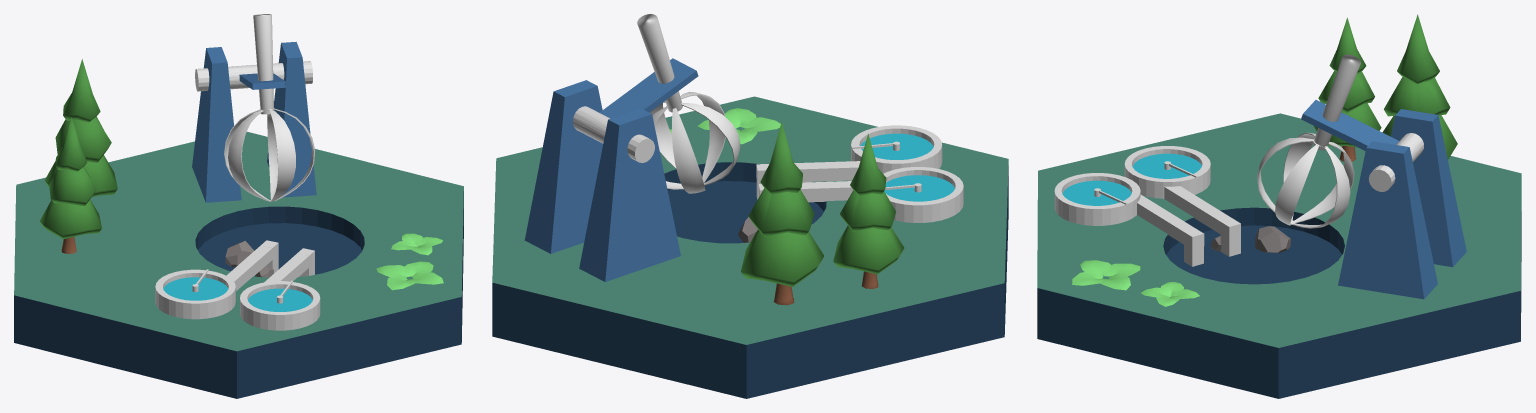
File: Macro - Mineral lvl 1 WM3 rev.fbx
3 renders of one model, left to right at view 1: azimuth 30°, elevation 25°; view 2: azimuth 150°, elevation 25°; view 3: azimuth 270°, elevation 25°, orthographic. The views are drawn at different scales.
Parts seen in each view (by area): view 1: Cylinder.011, Cube.002, Tree_Spruce_tiny_01.001, Circle.001, Tree_Spruce_tiny_01.002, Cube.001, Cylinder.124, Cylinder.131, Cylinder.003, Plane.011, Cylinder.002, Cylinder.126 (+6 smaller); view 2: Cylinder.011, Cube.002, Cube.001, Tree_Spruce_tiny_01.002, Tree_Spruce_tiny_01.001, Circle.001, Cylinder.124, Cube.003, Cylinder.131, Cylinder.003, Cylinder.002, Cylinder.126 (+4 smaller); view 3: Cylinder.011, Cube.001, Cube.002, Circle.001, Tree_Spruce_tiny_01.002, Cylinder.131, Tree_Spruce_tiny_01.001, Cylinder.124, Cube.003, Cylinder.003, Cube.065, Plane.011 (+8 smaller).
Part boxes in pixels (left/top/right/bottom): Cylinder.011: left=14, top=131, right=463, bottom=398; Cube.002: left=192, top=47, right=241, bottom=202; Tree_Spruce_tiny_01.001: left=40, top=117, right=101, bottom=253; Circle.001: left=224, top=108, right=315, bottom=201; Tree_Spruce_tiny_01.002: left=44, top=59, right=117, bottom=196; Cube.001: left=267, top=41, right=316, bottom=197; Cylinder.124: left=155, top=269, right=235, bottom=319; Cylinder.131: left=240, top=281, right=320, bottom=330; Cylinder.003: left=253, top=14, right=273, bottom=114; Plane.011: left=376, top=261, right=443, bottom=290; Cylinder.002: left=195, top=61, right=312, bottom=91; Cylinder.126: left=163, top=277, right=228, bottom=300; Cylinder.011: left=492, top=96, right=1008, bottom=398; Cube.002: left=579, top=108, right=680, bottom=281; Cube.001: left=524, top=80, right=603, bottom=253; Tree_Spruce_tiny_01.002: left=741, top=121, right=823, bottom=305; Tree_Spruce_tiny_01.001: left=833, top=133, right=904, bottom=288; Circle.001: left=649, top=91, right=740, bottom=193; Cylinder.124: left=883, top=167, right=963, bottom=222; Cube.003: left=599, top=58, right=698, bottom=118; Cylinder.131: left=851, top=125, right=942, bottom=173; Cylinder.003: left=637, top=14, right=682, bottom=112; Cylinder.002: left=573, top=106, right=654, bottom=162; Cylinder.126: left=884, top=175, right=954, bottom=201; Cylinder.011: left=1037, top=113, right=1521, bottom=398; Cube.001: left=1338, top=141, right=1437, bottom=299; Cube.002: left=1391, top=109, right=1466, bottom=267; Circle.001: left=1257, top=132, right=1354, bottom=228; Tree_Spruce_tiny_01.002: left=1382, top=14, right=1457, bottom=159; Cylinder.131: left=1054, top=173, right=1140, bottom=225; Tree_Spruce_tiny_01.001: left=1314, top=17, right=1381, bottom=161; Cylinder.124: left=1124, top=146, right=1210, bottom=198; Cube.003: left=1301, top=100, right=1398, bottom=150; Cylinder.003: left=1313, top=54, right=1360, bottom=150; Cube.065: left=1164, top=186, right=1240, bottom=239; Plane.011: left=1072, top=260, right=1140, bottom=290.
Size of the model in its own units: 197 by 99.74 by 172.
